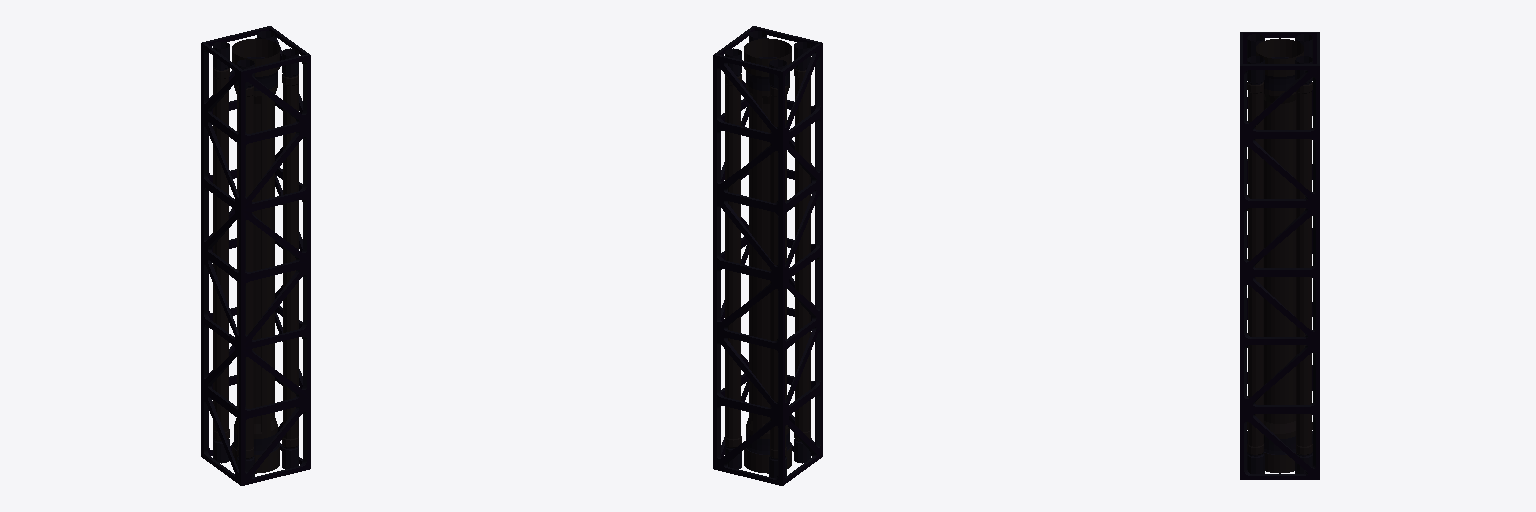
File: columnPipes.obj
3 renders of one model, left to right at view 1: azimuth 30°, elevation 25°; view 2: azimuth 150°, elevation 25°; view 3: azimuth 270°, elevation 25°, orthographic.
Visible parts, largest first — view 1: columnPipes_0; view 2: columnPipes_0; view 3: columnPipes_0.
Part boxes in pixels (x1,y1,x2,y2): columnPipes_0: (201,26,310,485); columnPipes_0: (713,26,822,485); columnPipes_0: (1240,32,1319,479).
Size of the model in its own units: 0.8746 by 5 by 0.8746.